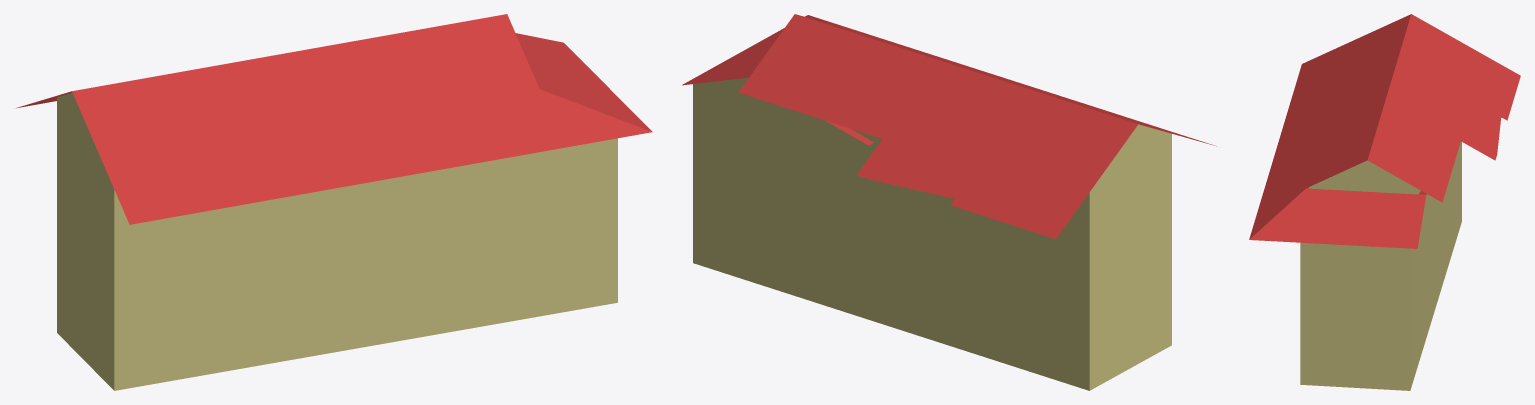
3 renders of one model, left to right at view 1: azimuth 30°, elevation 25°; view 2: azimuth 150°, elevation 25°; view 3: azimuth 270°, elevation 25°, orthographic. The views are drawn at different scales.
Size of the model in its own units: 18.84 by 11.7 by 9.54.
